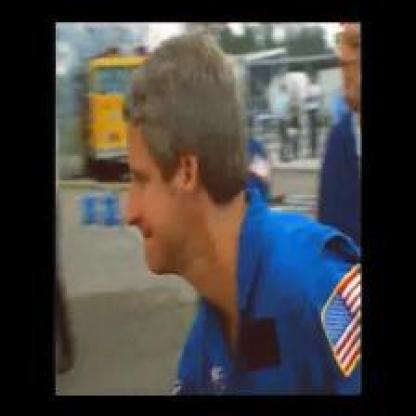other: (77, 42, 165, 161)
